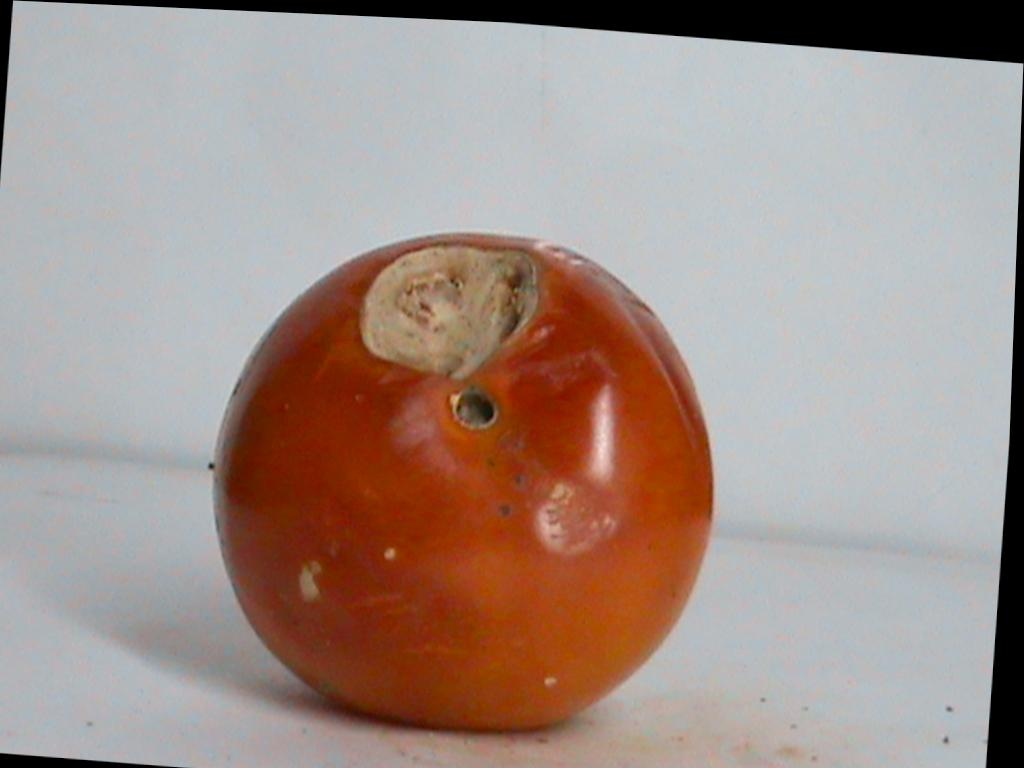bruise_discoloration: (536, 483, 621, 554)
rot_mold_decay: (360, 245, 537, 378)
surface_damage: (300, 562, 319, 599), (510, 472, 526, 487), (498, 502, 511, 515), (486, 457, 497, 468), (384, 549, 394, 559), (544, 676, 555, 685)
tomato: (213, 232, 712, 728)
